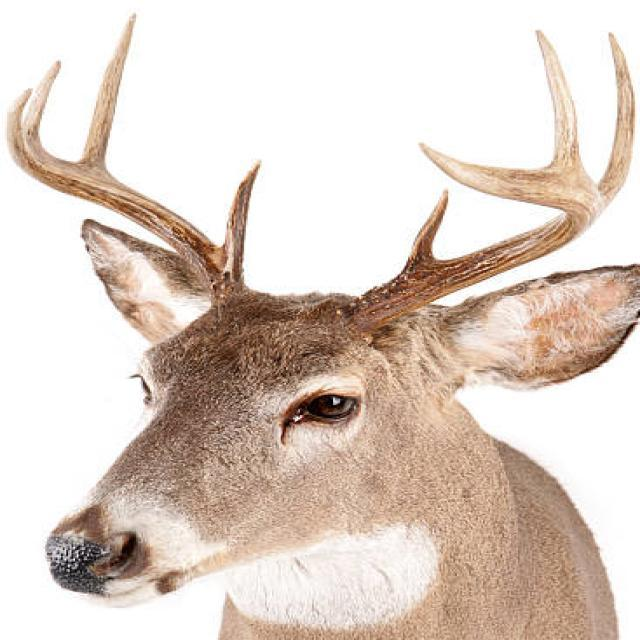L-F: (336, 140, 609, 345)
L-G1: (399, 185, 451, 275)
L-G2: (598, 26, 637, 205)
L-G3: (533, 27, 593, 178)
R-F: (5, 87, 254, 310)
R-G1: (224, 154, 264, 276)
R-G2: (79, 12, 139, 174)
R-G3: (21, 57, 62, 144)
